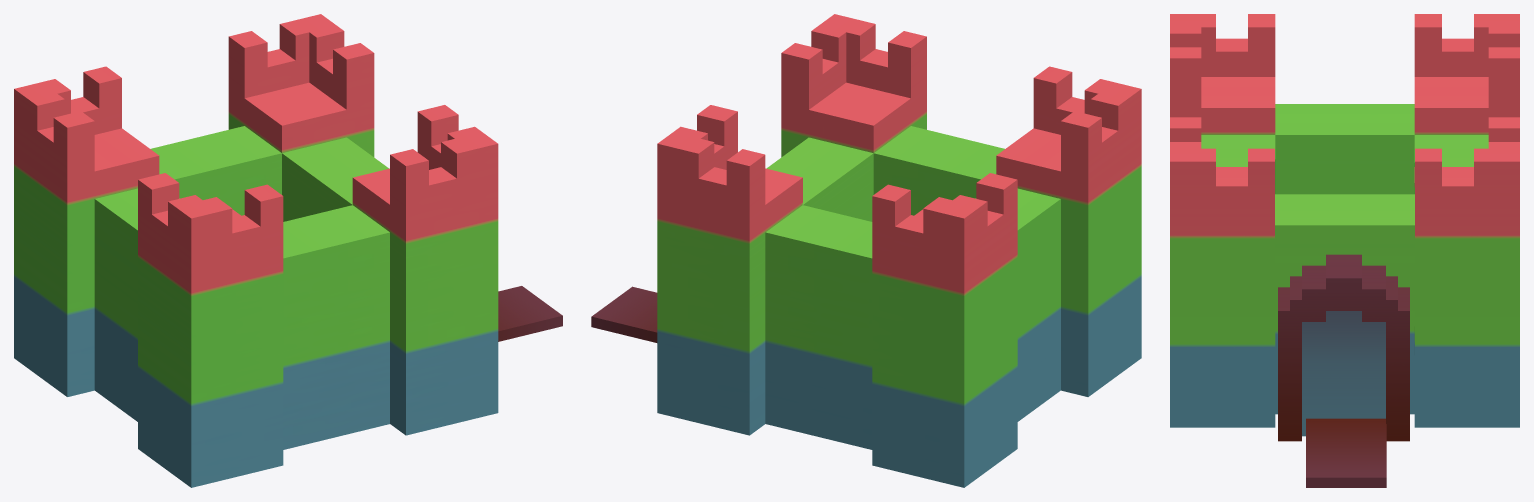
The model's file is Castle.fbx.
3 renders of one model, left to right at view 1: azimuth 30°, elevation 25°; view 2: azimuth 150°, elevation 25°; view 3: azimuth 270°, elevation 25°, orthographic.
Visible parts, largest first — view 1: Castle; view 2: Castle; view 3: Castle.
Part boxes in pixels (x1=…): Castle: x1=14, y1=14, x2=562, y2=487; Castle: x1=591, y1=14, x2=1141, y2=487; Castle: x1=1170, y1=14, x2=1519, y2=487.
Bounding box in the file's own units: 175 × 103 × 122.
